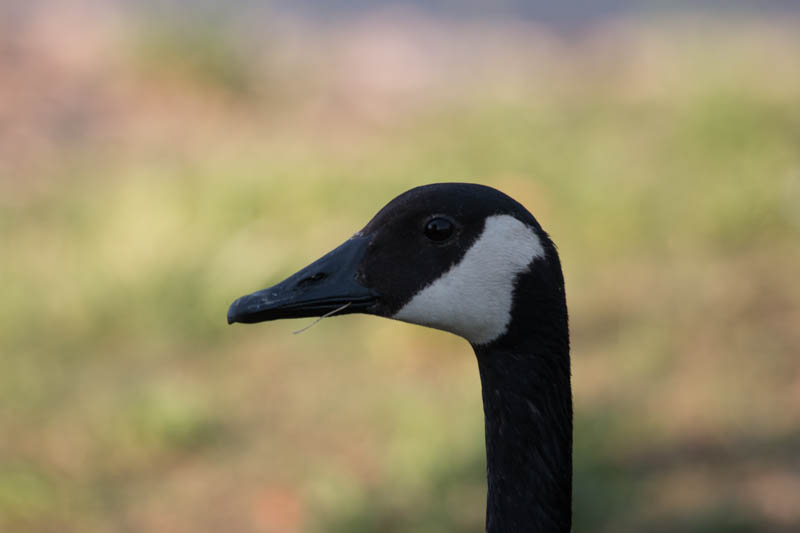goose-head: (226, 182, 569, 347)
